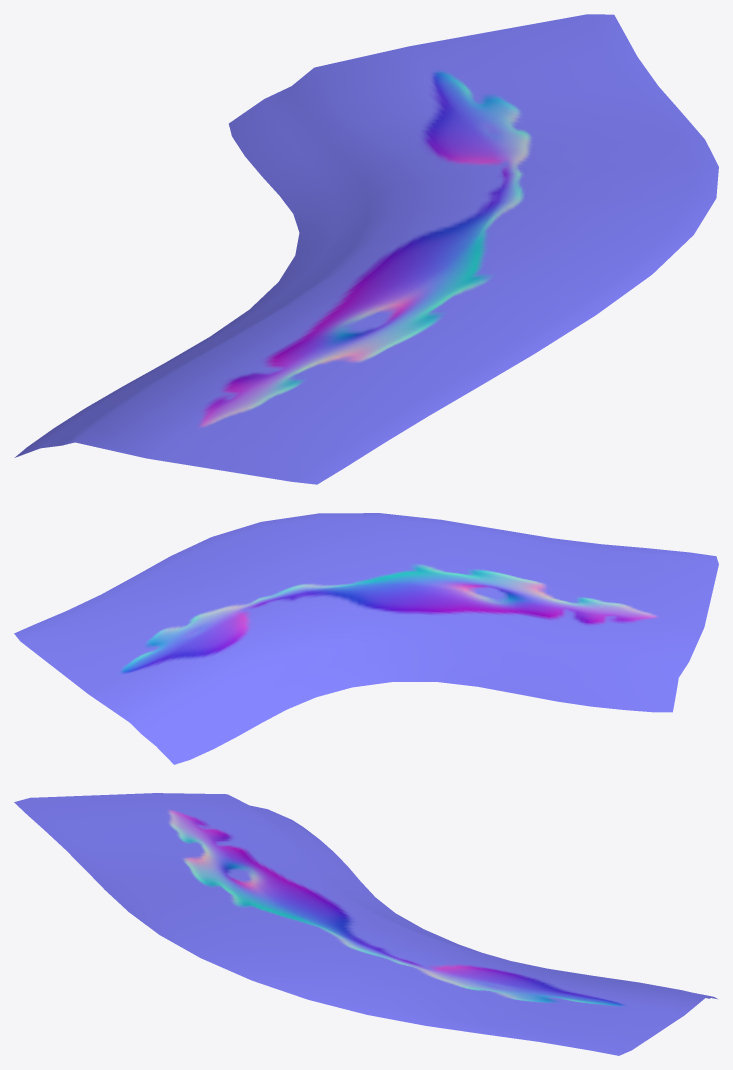
The model's file is p_mesh_trashbot_windpushroar_groundgoo_quater_pose1.fbx.
3 views of the same model, one above another, from view 1: azimuth 30°, elevation 25°; view 2: azimuth 150°, elevation 25°; view 3: azimuth 270°, elevation 25° (orthographic). The views are drawn at different scales.
Parts seen in each view (by area): view 1: p_gooroar__pose1; view 2: p_gooroar__pose1; view 3: p_gooroar__pose1.
Boxes of the visible parts, box(x1,y1,x2,y2) form: p_gooroar__pose1: box(14, 14, 718, 484); p_gooroar__pose1: box(14, 513, 718, 764); p_gooroar__pose1: box(14, 793, 717, 1055).
Bounding box in the file's own units: 71.16 × 9.93 × 70.92.
